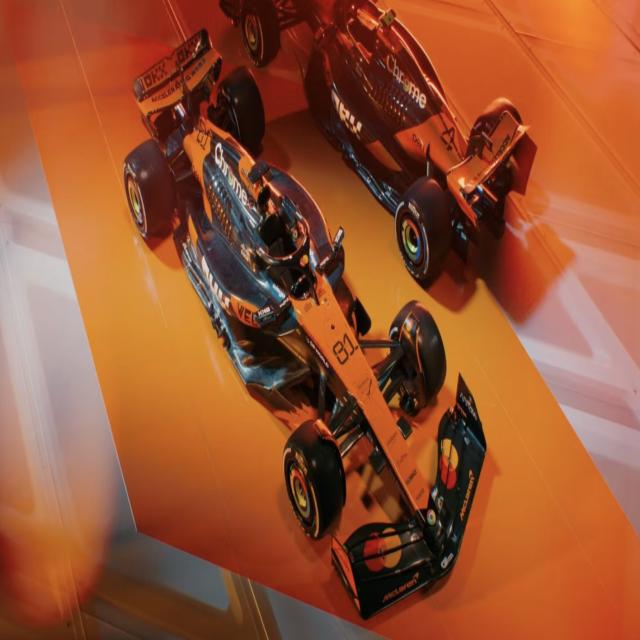McLaren: (122, 25, 489, 621), (219, 0, 539, 294)
